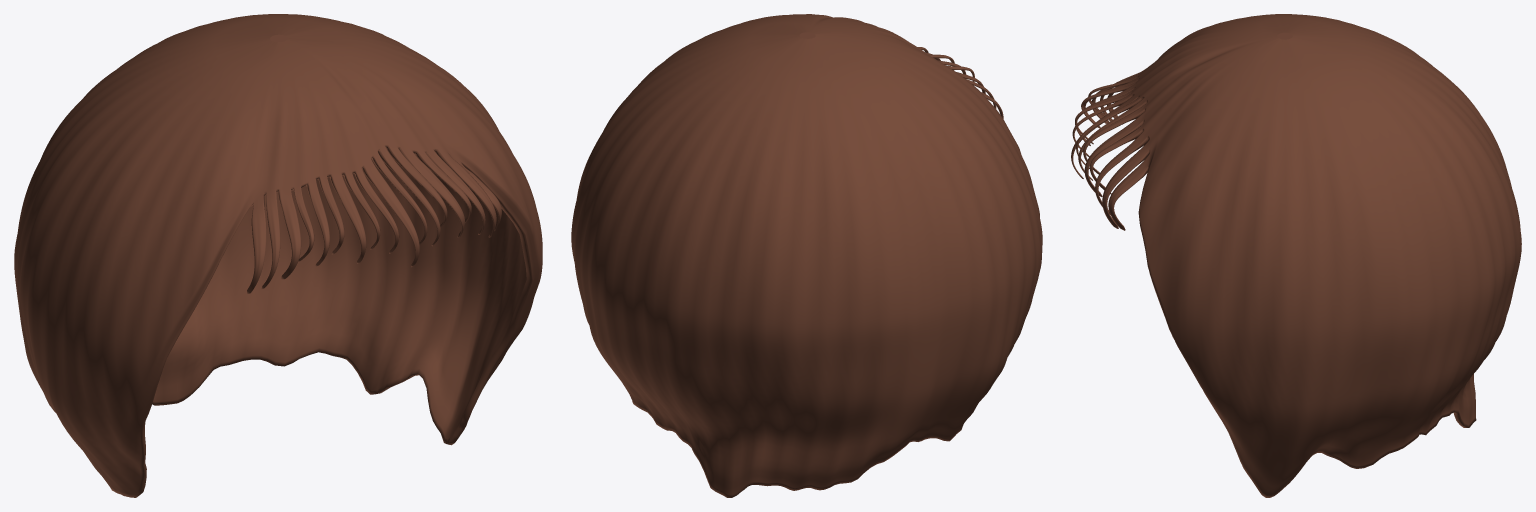
The model's file is side-sweep-pashmina.glb.
The picture shows the model from 3 angles, left to right: view 1: azimuth 30°, elevation 25°; view 2: azimuth 150°, elevation 25°; view 3: azimuth 270°, elevation 25°; orthographic projection. The views are drawn at different scales.
Visible parts, largest first — view 1: Wispy bangs / continuous crown; view 2: Wispy bangs / continuous crown; view 3: Wispy bangs / continuous crown.
Boxes of the visible parts, left/top/right/bottom form: Wispy bangs / continuous crown: left=14, top=14, right=542, bottom=497; Wispy bangs / continuous crown: left=571, top=14, right=1042, bottom=497; Wispy bangs / continuous crown: left=1071, top=14, right=1521, bottom=497.
Bounding box in the file's own units: 0.8384 × 0.7657 × 0.798.
